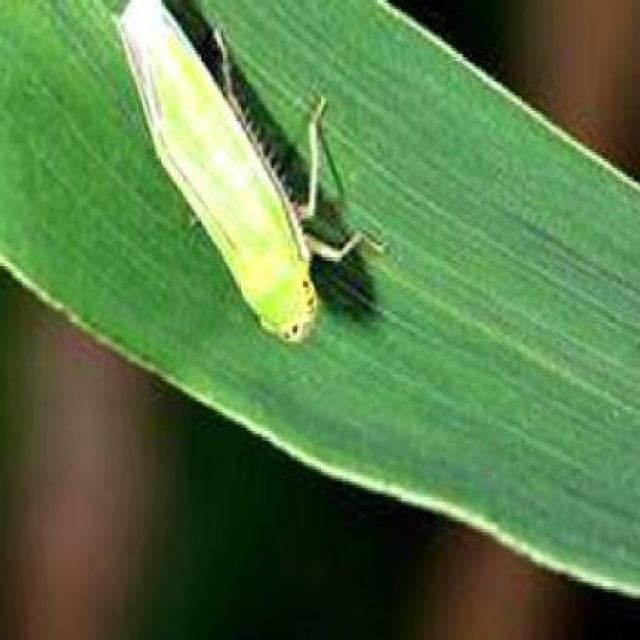green-leafhopper: (123, 2, 375, 346)
